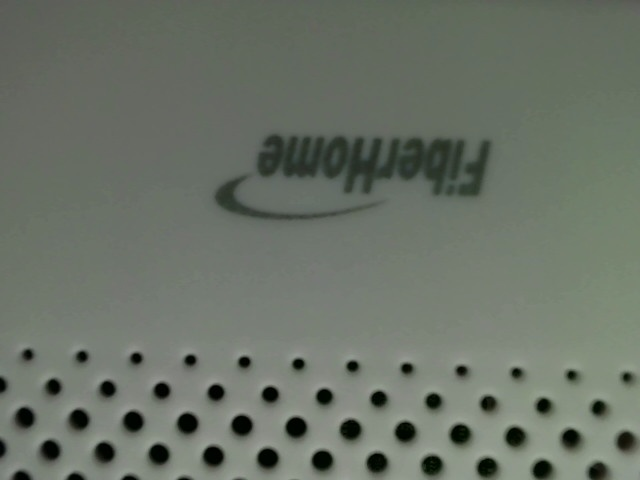AI_FiberHome: (198, 114, 503, 236)
